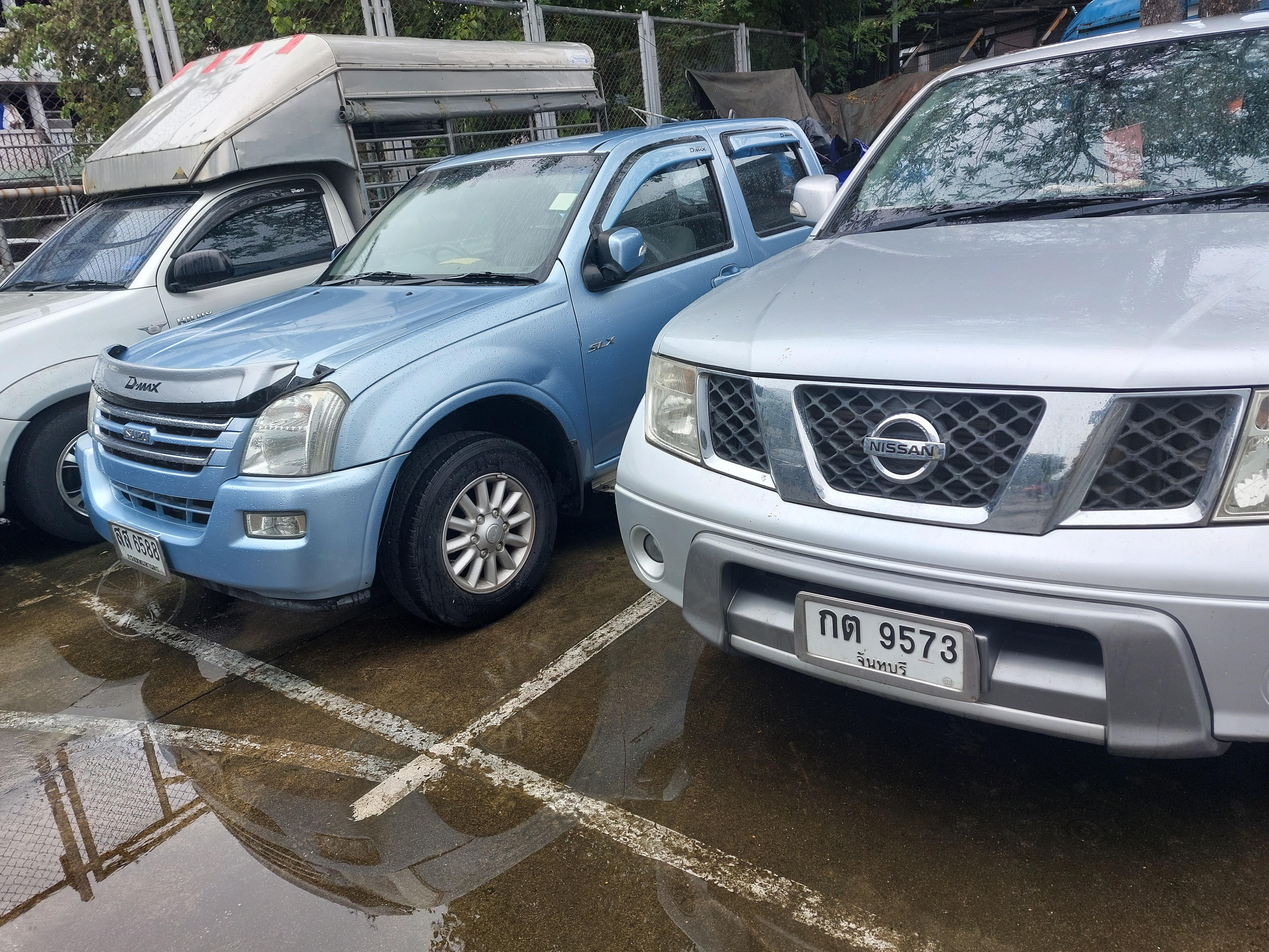license-plate: (792, 585, 981, 707), (108, 519, 175, 587)
